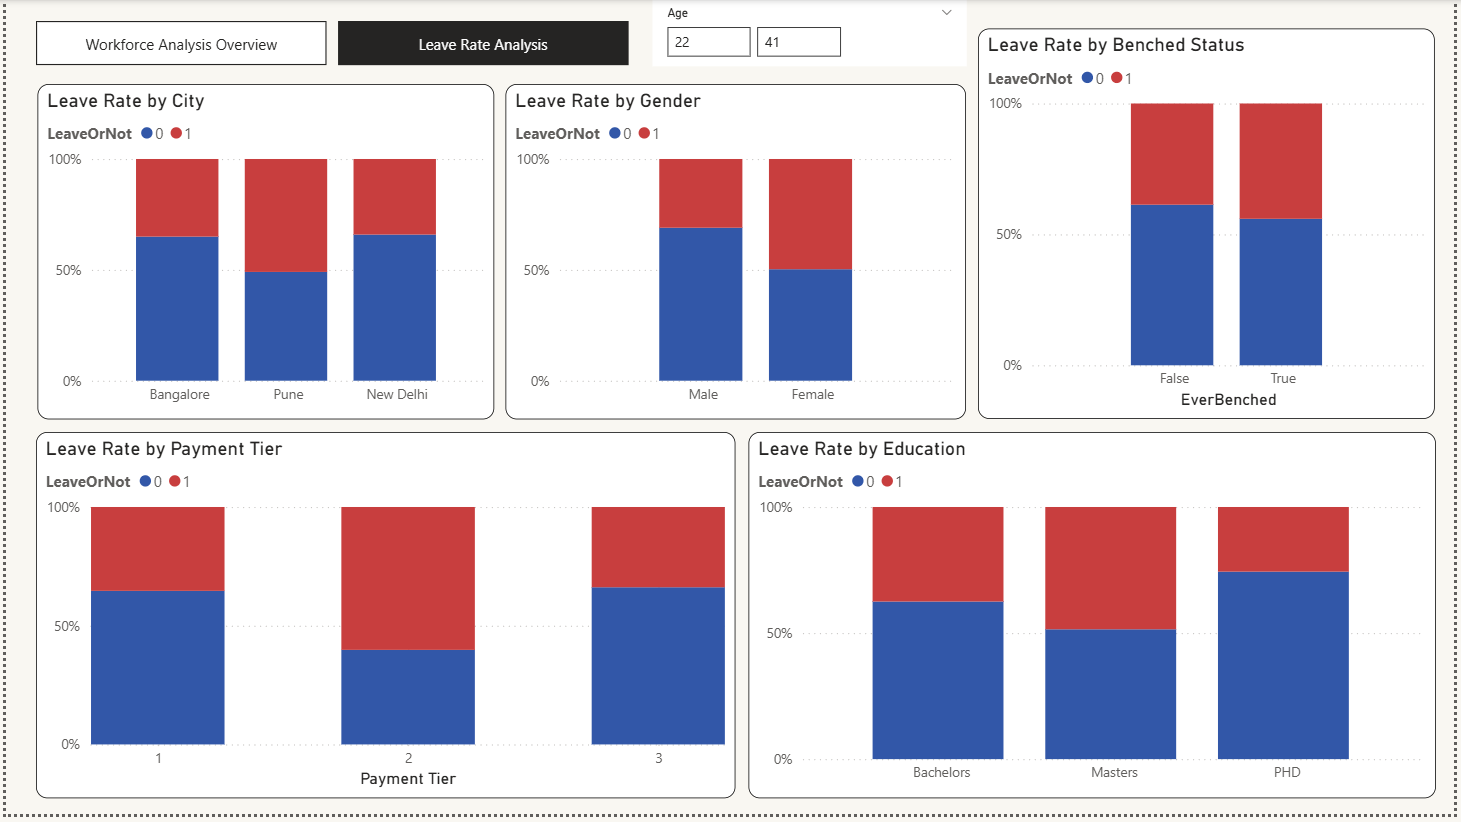

The dashboard page shown, as its layout file describes it:
{"tool":"powerbi","page":{"name":"Leave Rate Analysis","canvas":[1280,720],"ordinal":1},"visuals":[{"type":"hundredPercentStackedColumnChart","title":"Leave Rate by City","fields":{"Category":["cleaned_employee_data.City"],"Y":["Sum(cleaned_employee_data.LeaveOrNot)"],"Series":["cleaned_employee_data.LeaveOrNot"]},"box":[27.3,74.2,404.3,296.8],"z":0},{"type":"hundredPercentStackedColumnChart","title":"Leave Rate by Payment Tier","fields":{"Category":["cleaned_employee_data.Payment Tier"],"Y":["Sum(cleaned_employee_data.LeaveOrNot)"],"Series":["cleaned_employee_data.LeaveOrNot"]},"box":[26.8,382.1,619,323.7],"z":1},{"type":"hundredPercentStackedColumnChart","title":"Leave Rate by Education","fields":{"Category":["cleaned_employee_data.Education"],"Y":["Sum(cleaned_employee_data.LeaveOrNot)"],"Series":["cleaned_employee_data.LeaveOrNot"]},"box":[656.9,382.1,607.9,323.7],"z":2},{"type":"hundredPercentStackedColumnChart","title":"Leave Rate by Gender","fields":{"Category":["cleaned_employee_data.Gender"],"Y":["Sum(cleaned_employee_data.LeaveOrNot)"],"Series":["cleaned_employee_data.LeaveOrNot"]},"box":[442.1,74.2,407.3,296.8],"z":3},{"type":"hundredPercentStackedColumnChart","title":"Leave Rate by Benched Status","fields":{"Category":["cleaned_employee_data.EverBenched"],"Y":["Sum(cleaned_employee_data.LeaveOrNot)"],"Series":["cleaned_employee_data.LeaveOrNot"]},"box":[860.1,25.7,404.3,345.2],"z":4},{"type":"slicer","fields":{"Values":["cleaned_employee_data.Age"]},"box":[571.6,0,277.9,58.4],"z":5},{"type":"pageNavigator","box":[26.8,18.9,524.2,39.5],"z":9}]}

Visuals, with their boxes in screenshot pixels (x1, y1, x2, y2), scaled from the page's 1280x720 canvas onto the 1461x822 screenshot:
"Leave Rate by City" hundredPercentStackedColumnChart: 31/85/493/424
"Leave Rate by Payment Tier" hundredPercentStackedColumnChart: 31/436/737/806
"Leave Rate by Education" hundredPercentStackedColumnChart: 750/436/1444/806
"Leave Rate by Gender" hundredPercentStackedColumnChart: 505/85/970/424
"Leave Rate by Benched Status" hundredPercentStackedColumnChart: 982/29/1443/423
slicer - cleaned_employee_data.Age: 652/0/970/67
pageNavigator: 31/22/629/67
